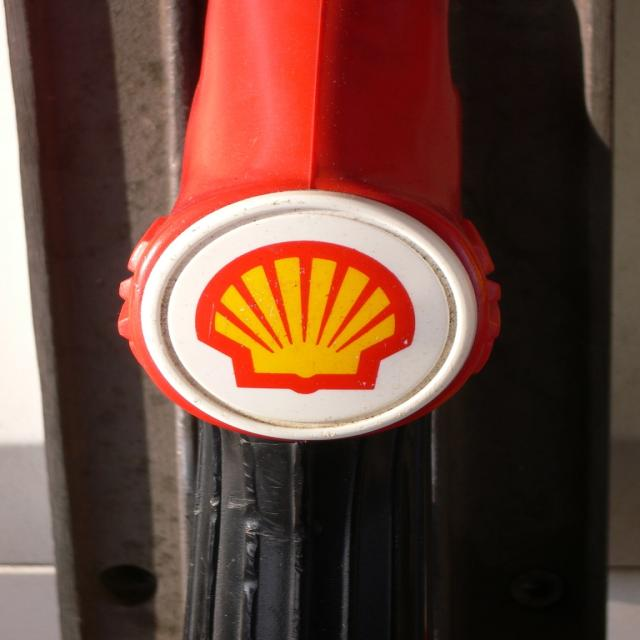shell: (195, 241, 419, 392)
